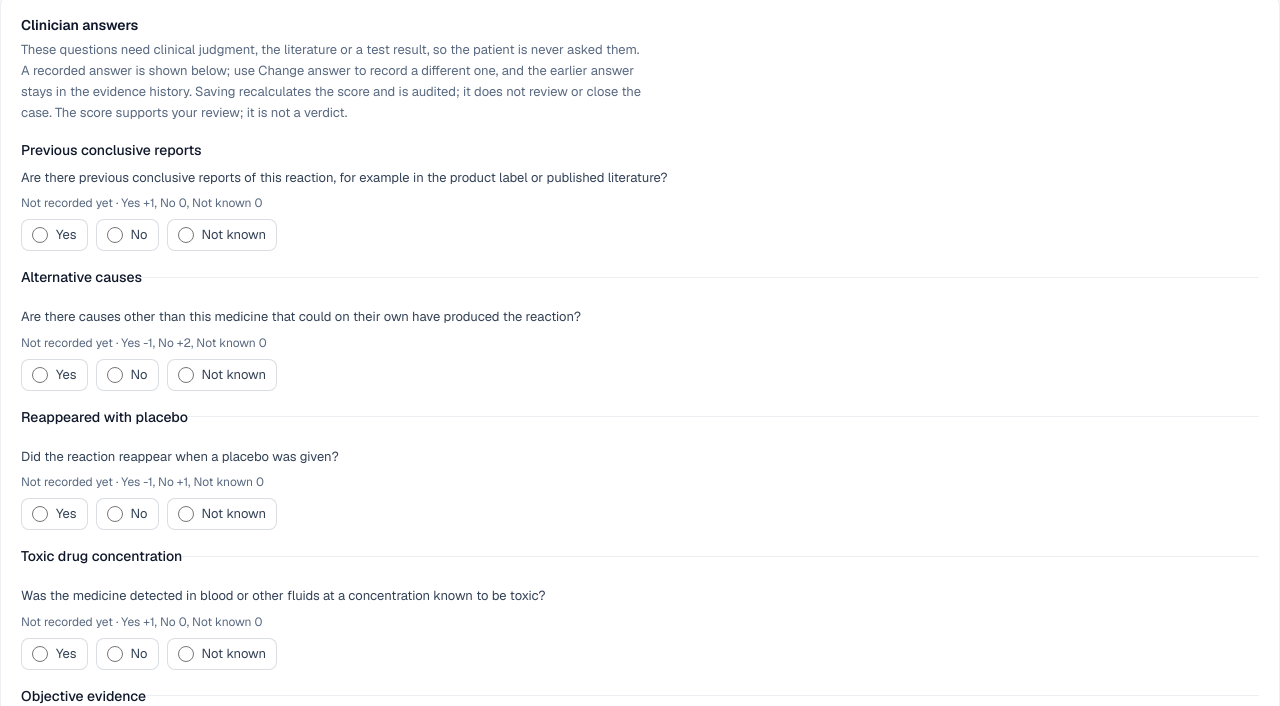
it: ADR clinician answers (PV-001-D) › requires a basis for Yes or No and sends only the questions changed here
Click the radio button labelled "No" below "+2".
click(114, 374)  # box [106, 366, 122, 382]
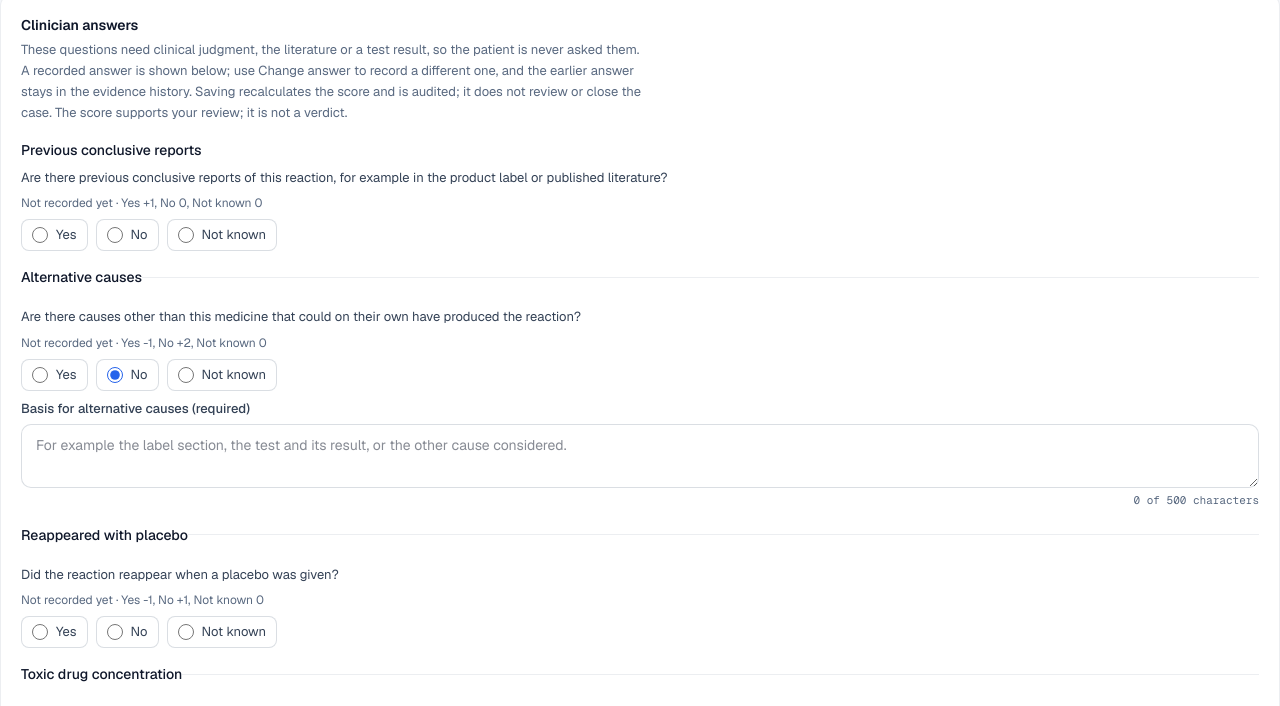
Replace the text in the text box labelled "Basis for alternative causes (required) 0 of 500 characters" with "  No other medicine or condition explains it.  " at (640, 456), box [21, 424, 1259, 488]
(page scrolled)
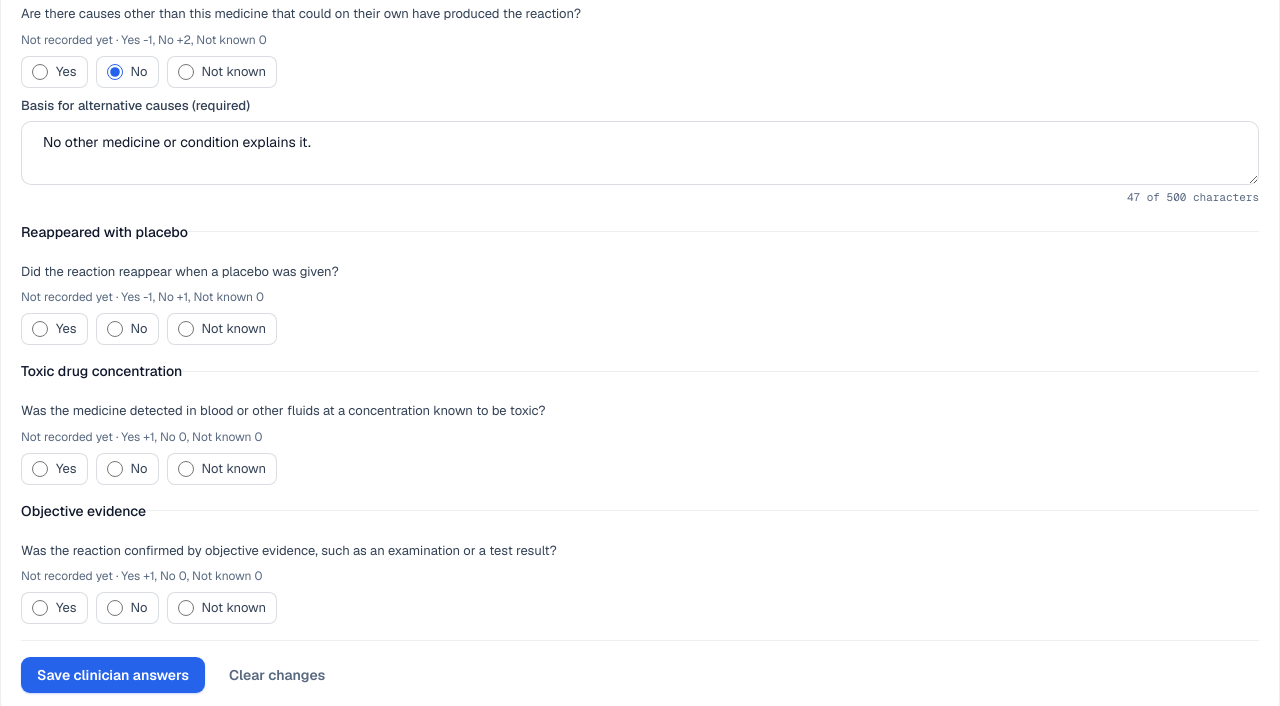
Click the 4th radio button labelled "Not known".
click(186, 608)  # box [178, 600, 194, 616]
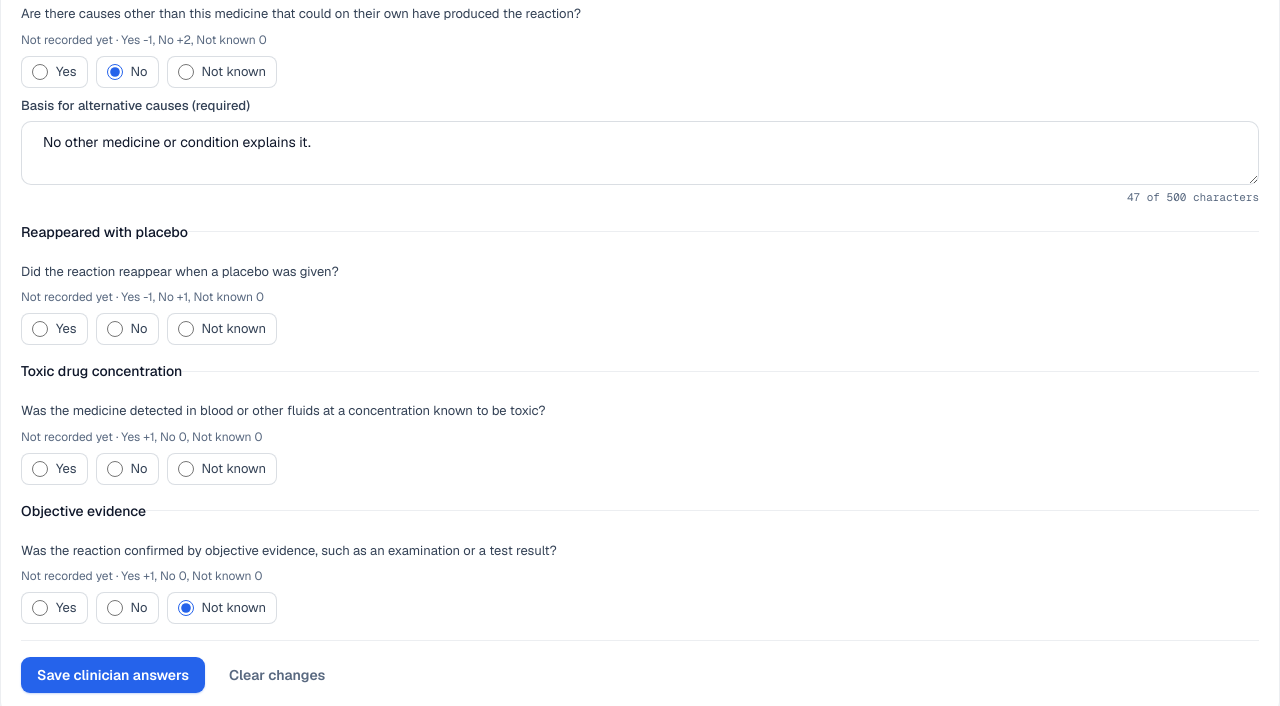
Now the button "Save clinician answers" is enabled
Click the button "Save clinician answers".
click(113, 675)  # box [21, 657, 205, 693]
(page scrolled)
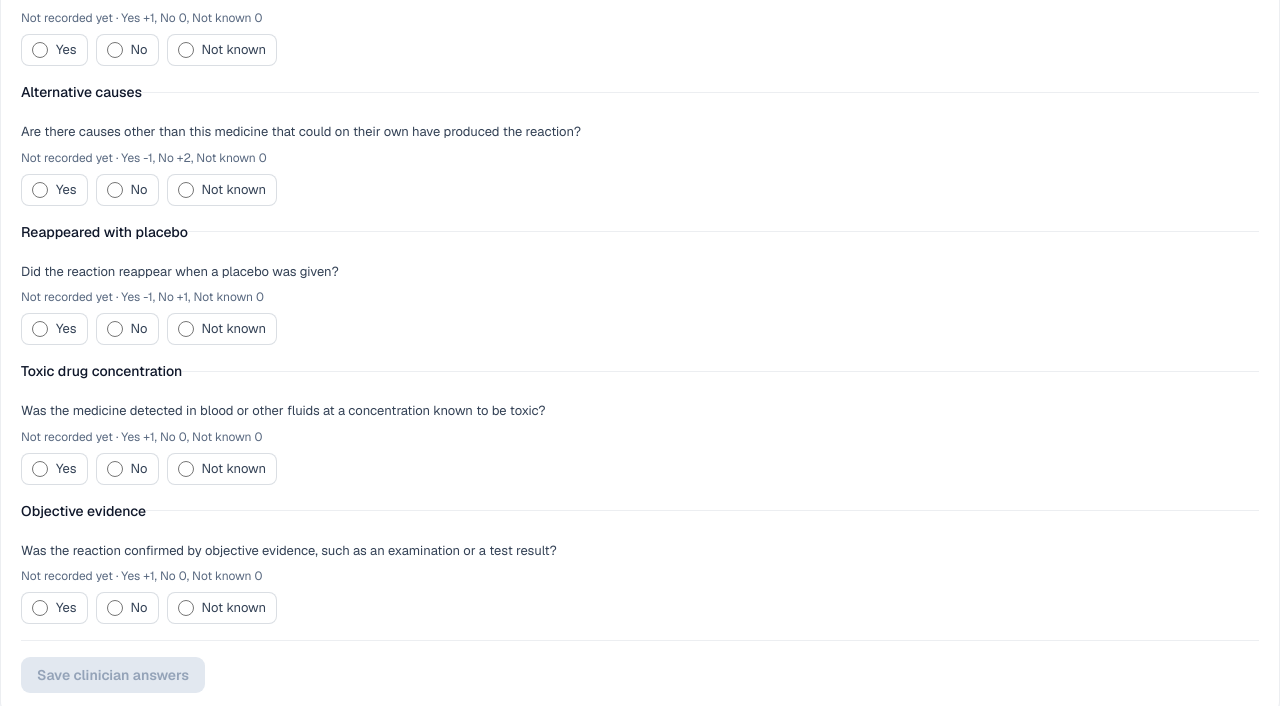
Now the button "Save clinician answers" is disabled, box [21, 657, 205, 693]
